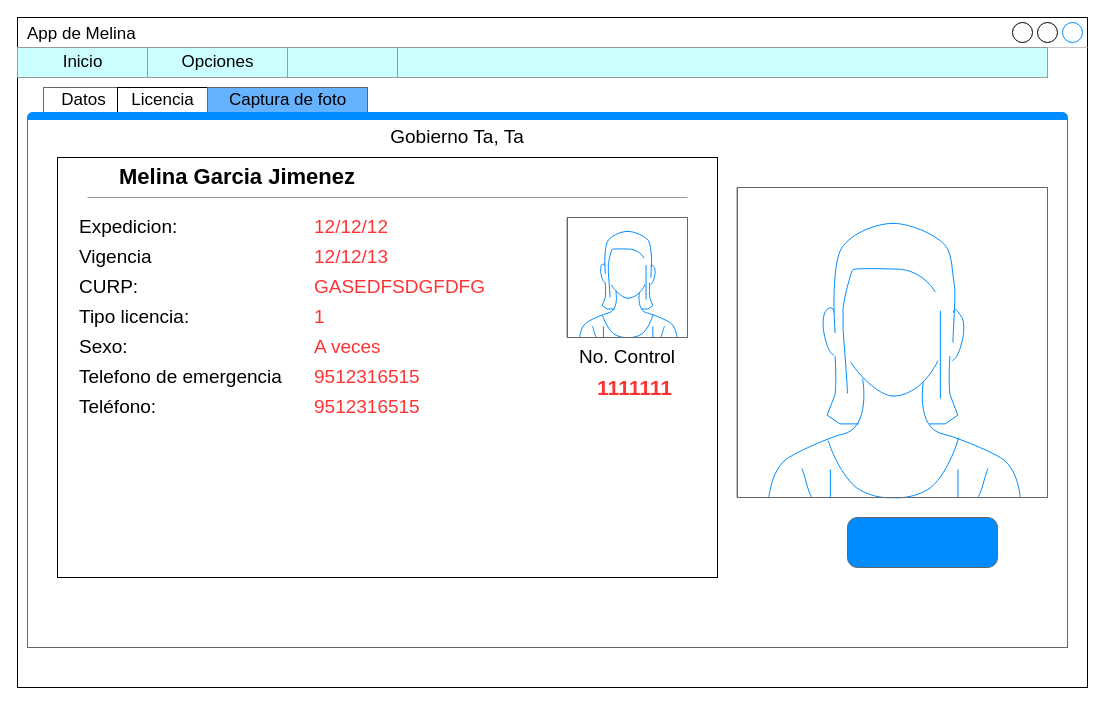
The diagram is 1105 pixels wide and 705 high, and some of its shapes have lost their labels. The shapes that lost their labels are listed below. From the top down, each one's centre as x and y in pixels, then its label:
At (x=342, y=62): "Acerca de".
At (x=922, y=542): "Capturar foto".
